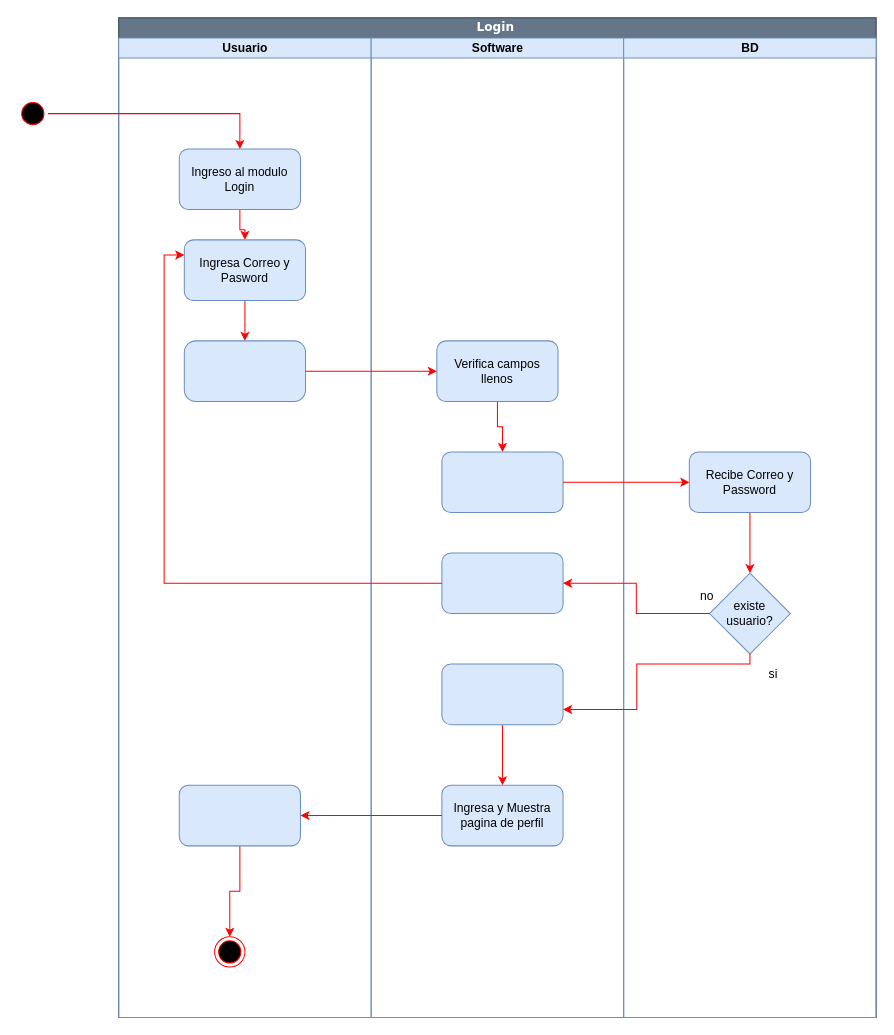
The diagram is 894 pixels wide and 1035 high, and some of its shapes have lost their labels. Each missing label, with the box of its shape:
Confirma que si existe usuario: (441, 663, 563, 725)
Consulta existencia: (441, 451, 563, 513)
Presiona Ingresar: (183, 340, 306, 401)
Recibe mensaje no existe: (441, 552, 563, 614)
Visualiza la pagina de inicio: (178, 784, 300, 846)
